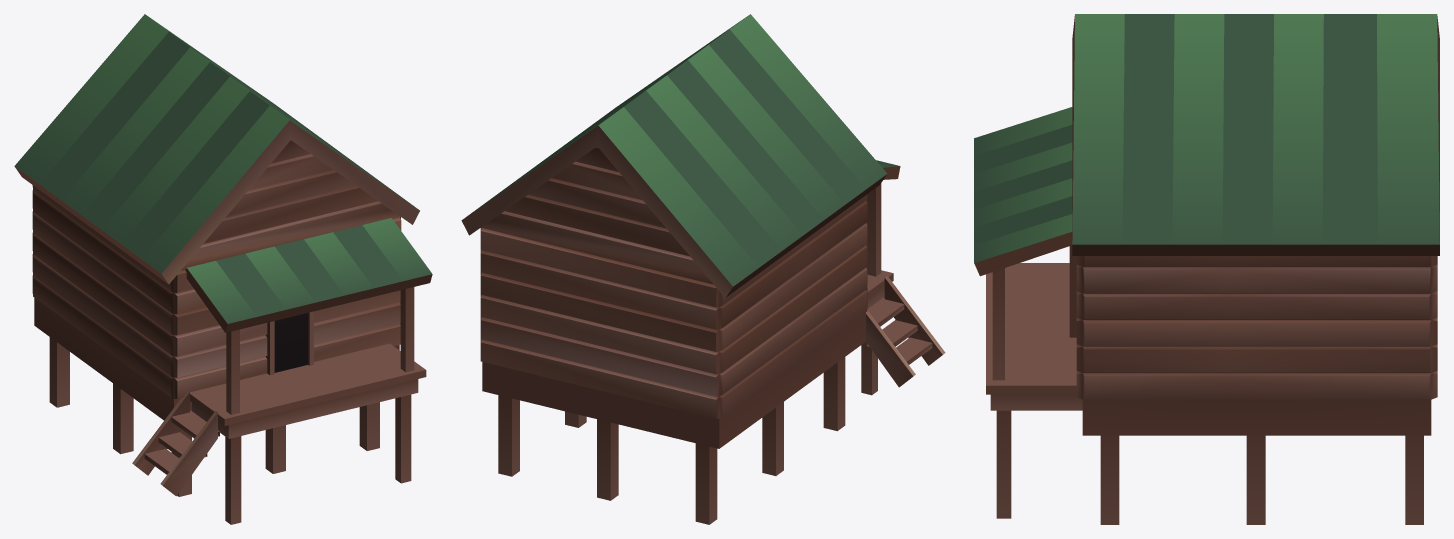
The model's file is buildings-residential-greenhut_v1.glb.
3 renders of one model, left to right at view 1: azimuth 30°, elevation 25°; view 2: azimuth 150°, elevation 25°; view 3: azimuth 270°, elevation 25°, orthographic. The views are drawn at different scales.
Visible parts, largest first — view 1: GreenHut.001; view 2: GreenHut.001; view 3: GreenHut.001.
Part boxes in pixels (x1,y1,x2,y2): GreenHut.001: (14, 14, 432, 524); GreenHut.001: (461, 14, 945, 524); GreenHut.001: (974, 14, 1439, 524).
Size of the model in its own units: 7.28 by 8.76 by 8.22.
